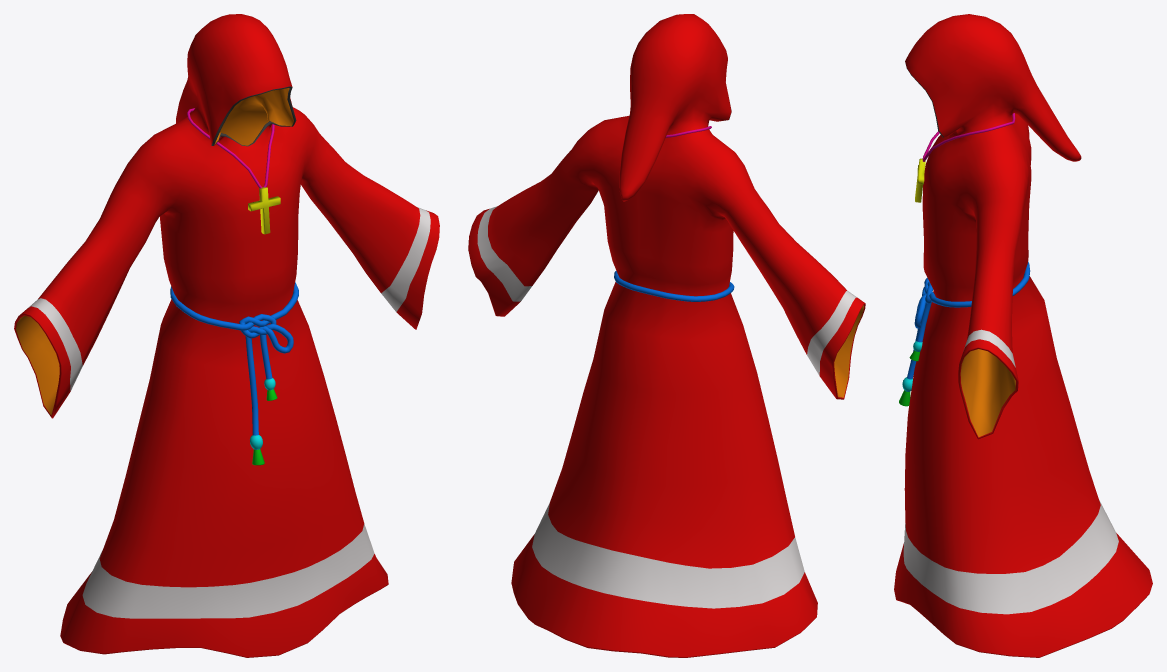
Rendered from uploads_files_4397599_Priest+Outfit+-+FBX.fbx.
3 renders of one model, left to right at view 1: azimuth 30°, elevation 25°; view 2: azimuth 150°, elevation 25°; view 3: azimuth 270°, elevation 25°, orthographic. The views are drawn at different scales.
Parts seen in each view (by area): view 1: Circle.002; view 2: Circle.002; view 3: Circle.002.
Part boxes in pixels (bbox=[...]): Circle.002: bbox=[14, 14, 439, 657]; Circle.002: bbox=[468, 14, 865, 657]; Circle.002: bbox=[894, 14, 1152, 657].
Size of the model in its own units: 134 by 190 by 77.4.
